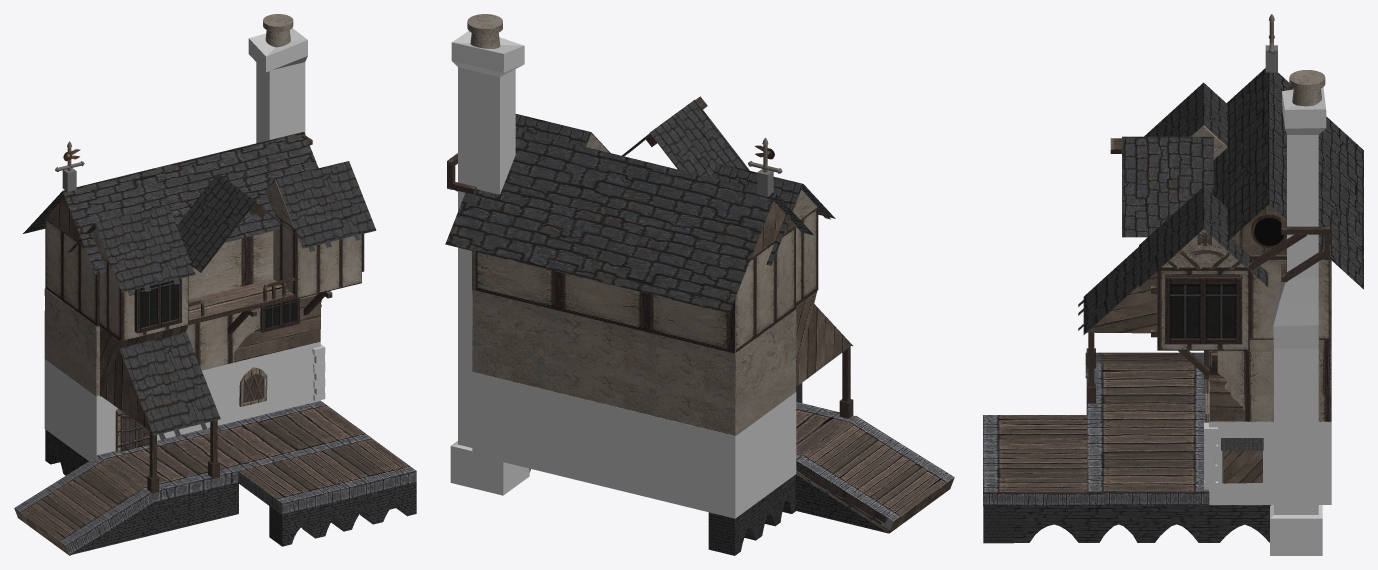
Rendered from CasaA3.fbx.
3 renders of one model, left to right at view 1: azimuth 30°, elevation 25°; view 2: azimuth 150°, elevation 25°; view 3: azimuth 270°, elevation 25°, orthographic. The views are drawn at different scales.
Visible parts, largest first — view 1: Cube.044; view 2: Cube.044; view 3: Cube.044.
Boxes of the visible parts, x1=… form: Cube.044: x1=14, y1=14, x2=416, y2=555; Cube.044: x1=445, y1=14, x2=954, y2=555; Cube.044: x1=983, y1=14, x2=1363, y2=555.
Bounding box in the file's own units: 746 × 840 × 623.
